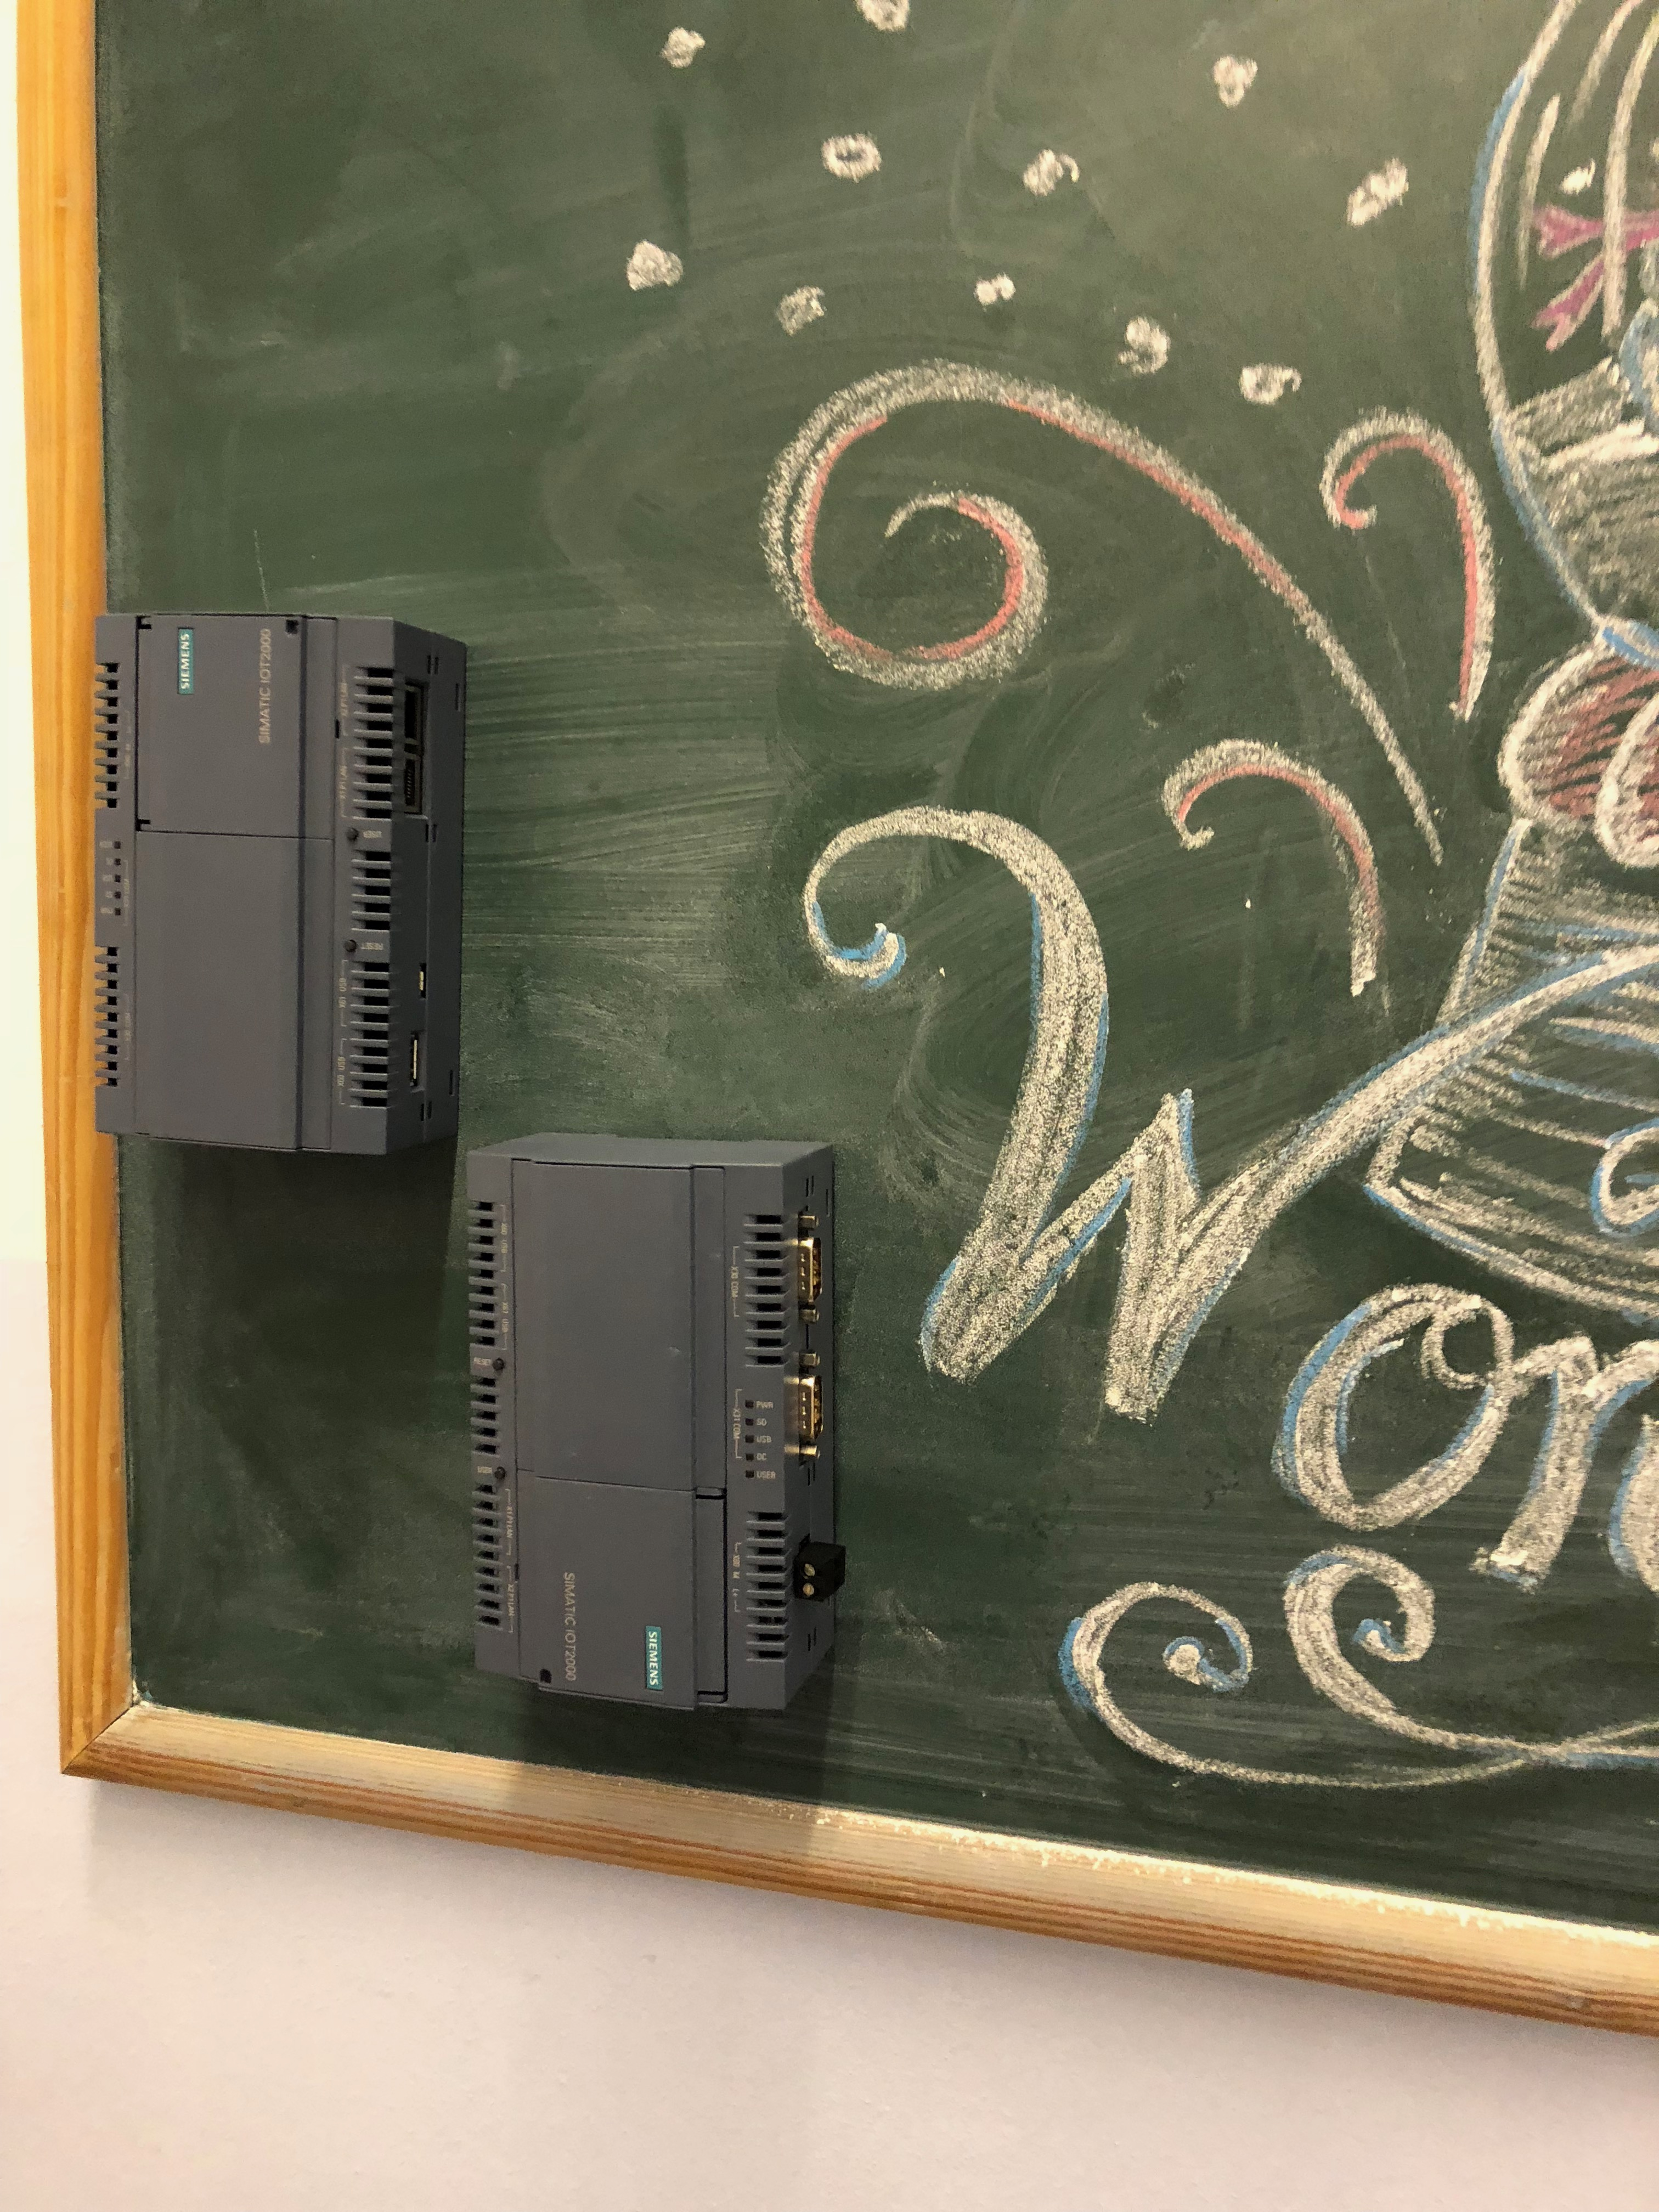device: (469, 1132, 845, 1710), (94, 613, 467, 1155)
